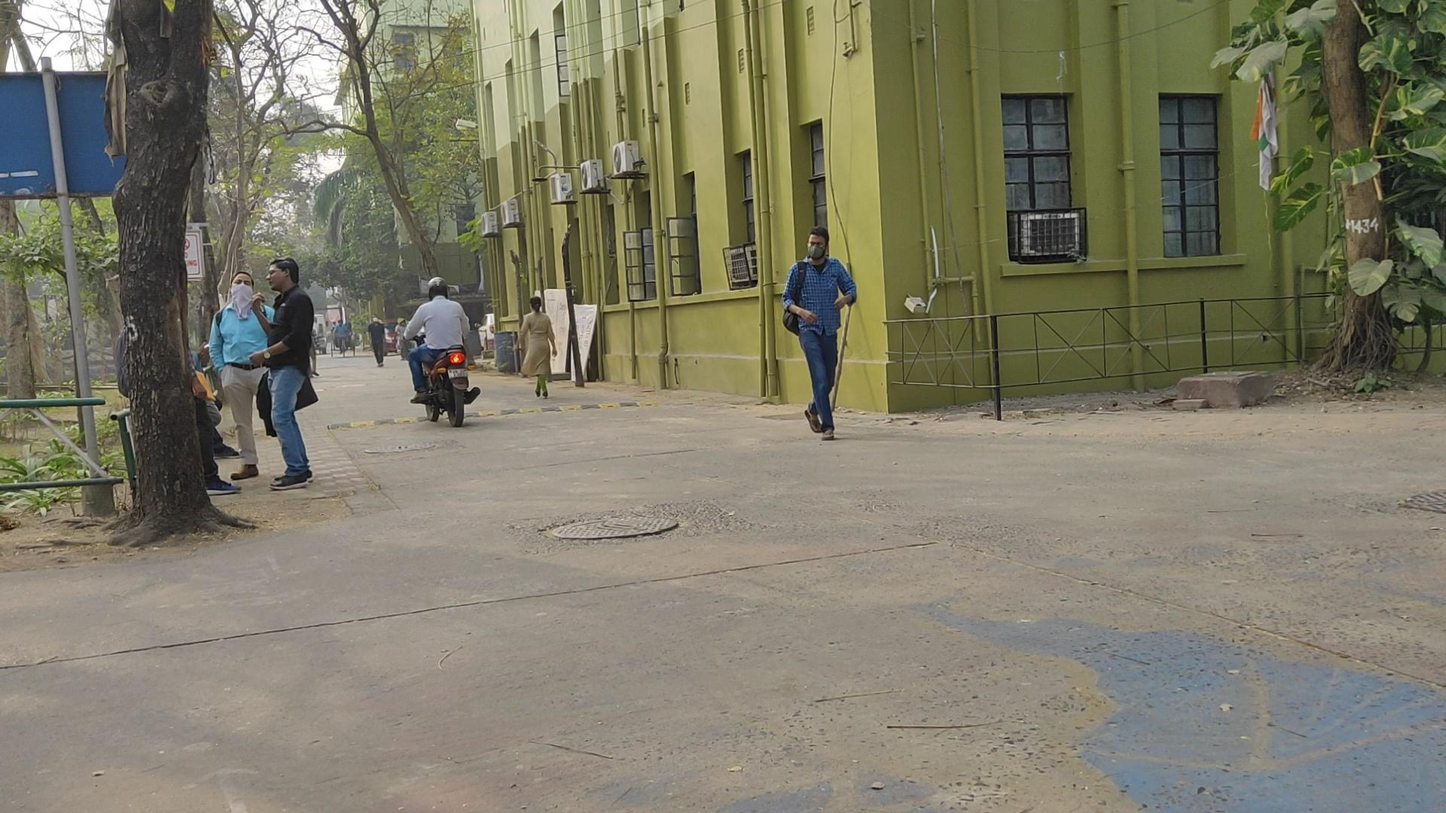bike: (404, 277, 481, 428)
